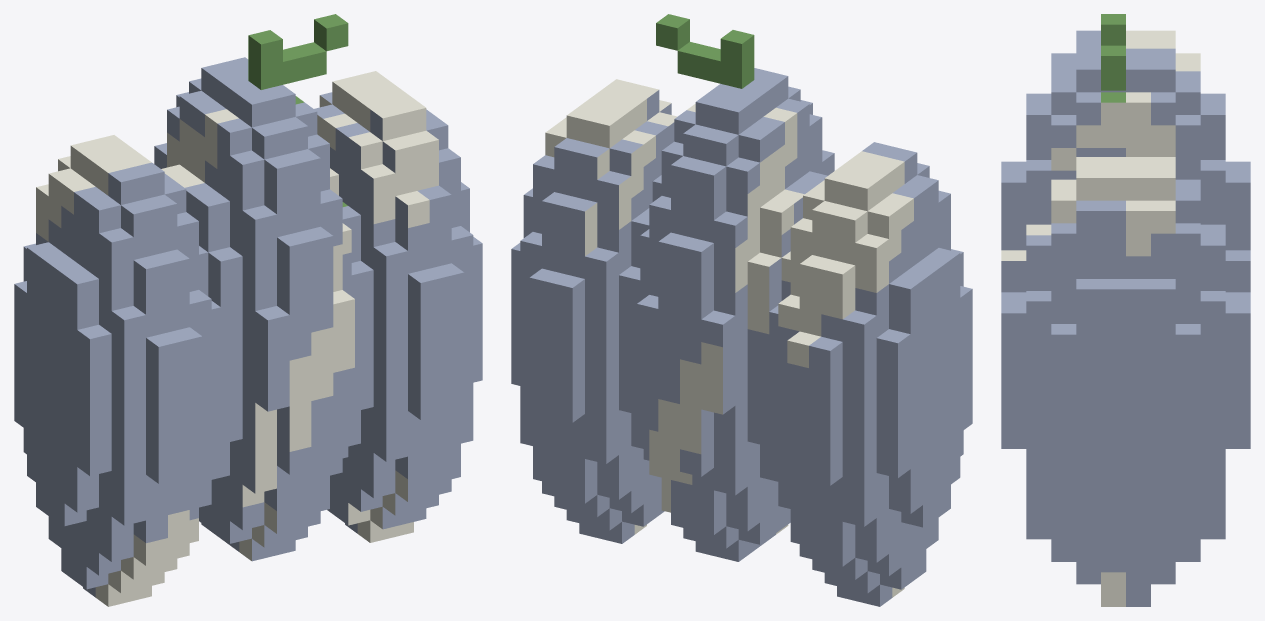
Rendered from supa_supa.glb.
3 views of the same model, side by side, from view 1: azimuth 30°, elevation 25°; view 2: azimuth 150°, elevation 25°; view 3: azimuth 270°, elevation 25° (orthographic).
Visible parts, largest first — view 1: akuma_supa_supa; view 2: akuma_supa_supa; view 3: akuma_supa_supa.
Boxes of the visible parts, x1,y1,x2,y2 form: akuma_supa_supa: (14, 14, 482, 606); akuma_supa_supa: (511, 14, 972, 606); akuma_supa_supa: (1001, 14, 1250, 606).
Size of the model in its own units: 0.468 by 0.598 by 0.26.
Materials: 1 (1 with a texture image).
